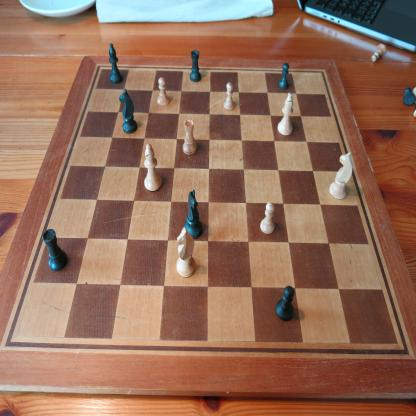black-bishop: (108, 43, 124, 84)
black-knight: (184, 189, 203, 239), (119, 88, 138, 134)
black-pawn: (276, 285, 294, 322), (278, 62, 289, 90)
black-rook: (42, 228, 68, 272), (190, 49, 202, 83)
white-bishop: (144, 143, 162, 192), (277, 92, 294, 136)
white-knight: (329, 151, 353, 200), (176, 226, 196, 278)
white-pawn: (260, 201, 275, 235), (157, 77, 170, 106), (370, 43, 387, 63), (224, 81, 235, 110)
white-rook: (182, 118, 197, 156)
